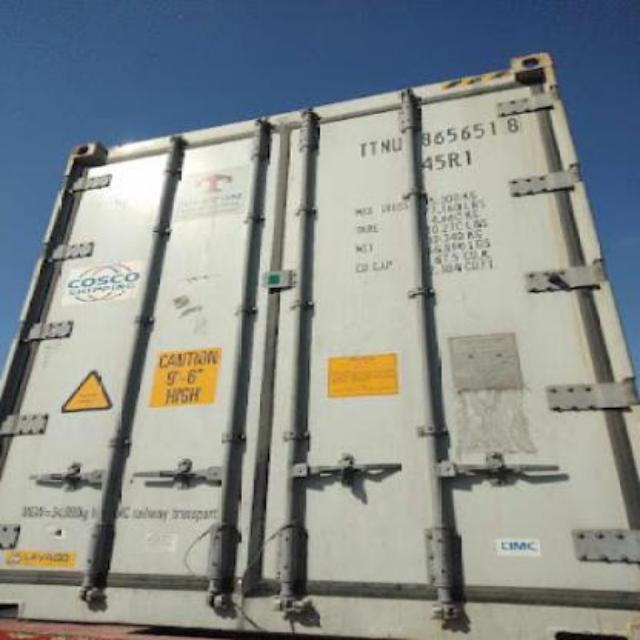1: (486, 115, 498, 139)
5: (472, 118, 484, 142), (444, 124, 458, 144)
6: (432, 125, 444, 146), (460, 121, 470, 142)
8: (504, 114, 522, 136)
9: (414, 127, 432, 147)
N: (376, 136, 389, 156)
T: (354, 138, 366, 162), (366, 138, 376, 158)
U: (390, 134, 402, 156)
